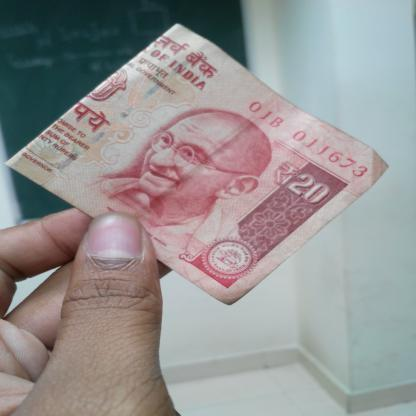Old20Front: (8, 27, 368, 279)
